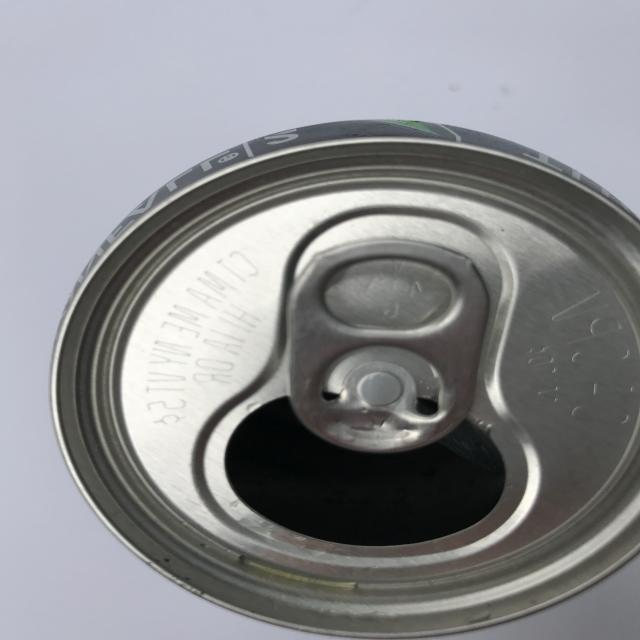metal: (49, 117, 640, 639)
